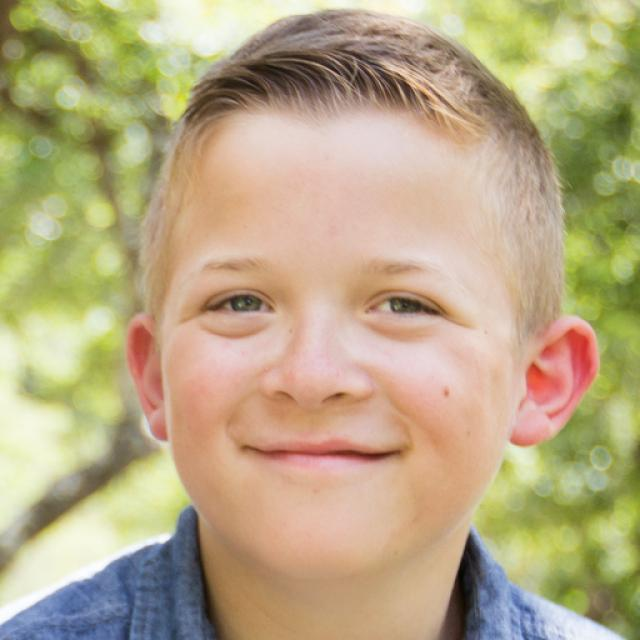happy: (161, 110, 519, 578)
